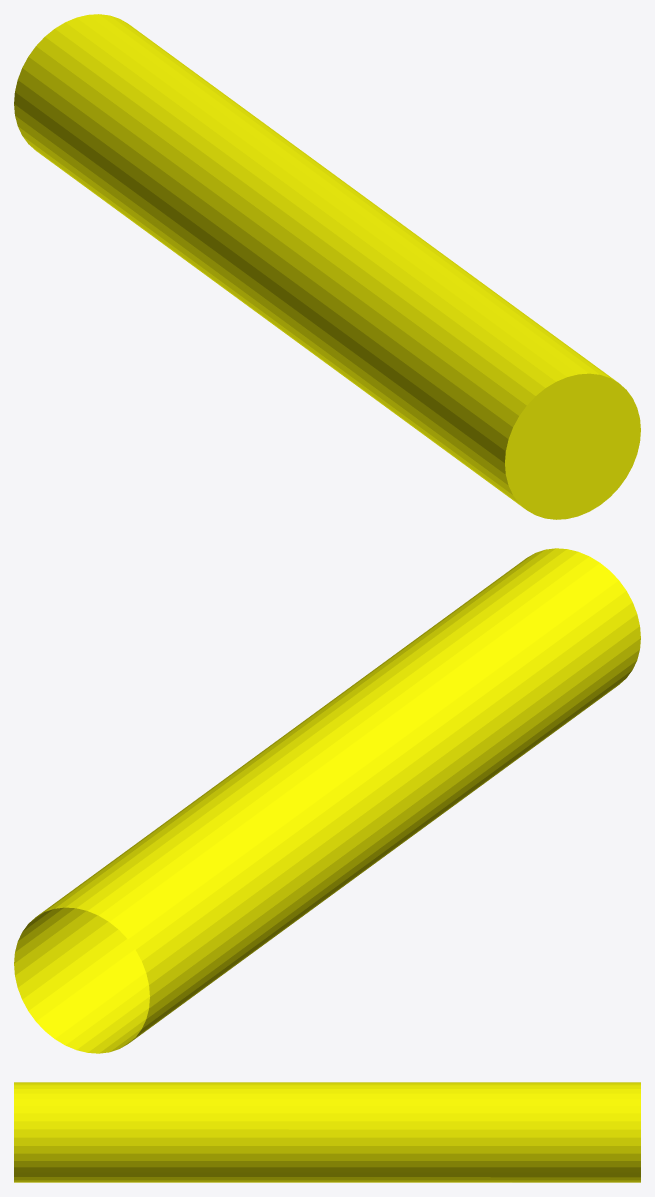
File: zatana_terra_Z_parts_vis_9.dae
3 views of the same model, one above another, from view 1: azimuth 30°, elevation 25°; view 2: azimuth 150°, elevation 25°; view 3: azimuth 270°, elevation 25° (orthographic). The views are drawn at different scales.
Visible parts, largest first — view 1: Node_00000231837435E0; view 2: Node_00000231837435E0; view 3: Node_00000231837435E0.
Boxes of the visible parts, bbox=[...] form: Node_00000231837435E0: bbox=[14, 14, 640, 519]; Node_00000231837435E0: bbox=[14, 548, 640, 1053]; Node_00000231837435E0: bbox=[14, 1082, 640, 1182].
Size of the model in its own units: 0.0016 by 0.00159 by 0.01.
